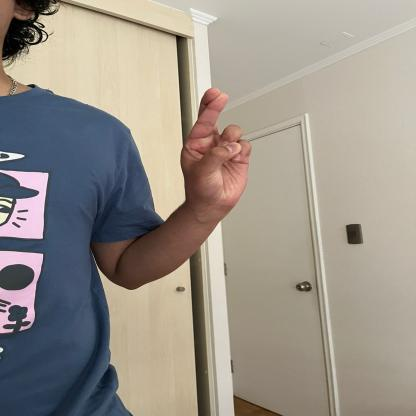R: (179, 85, 254, 210)
